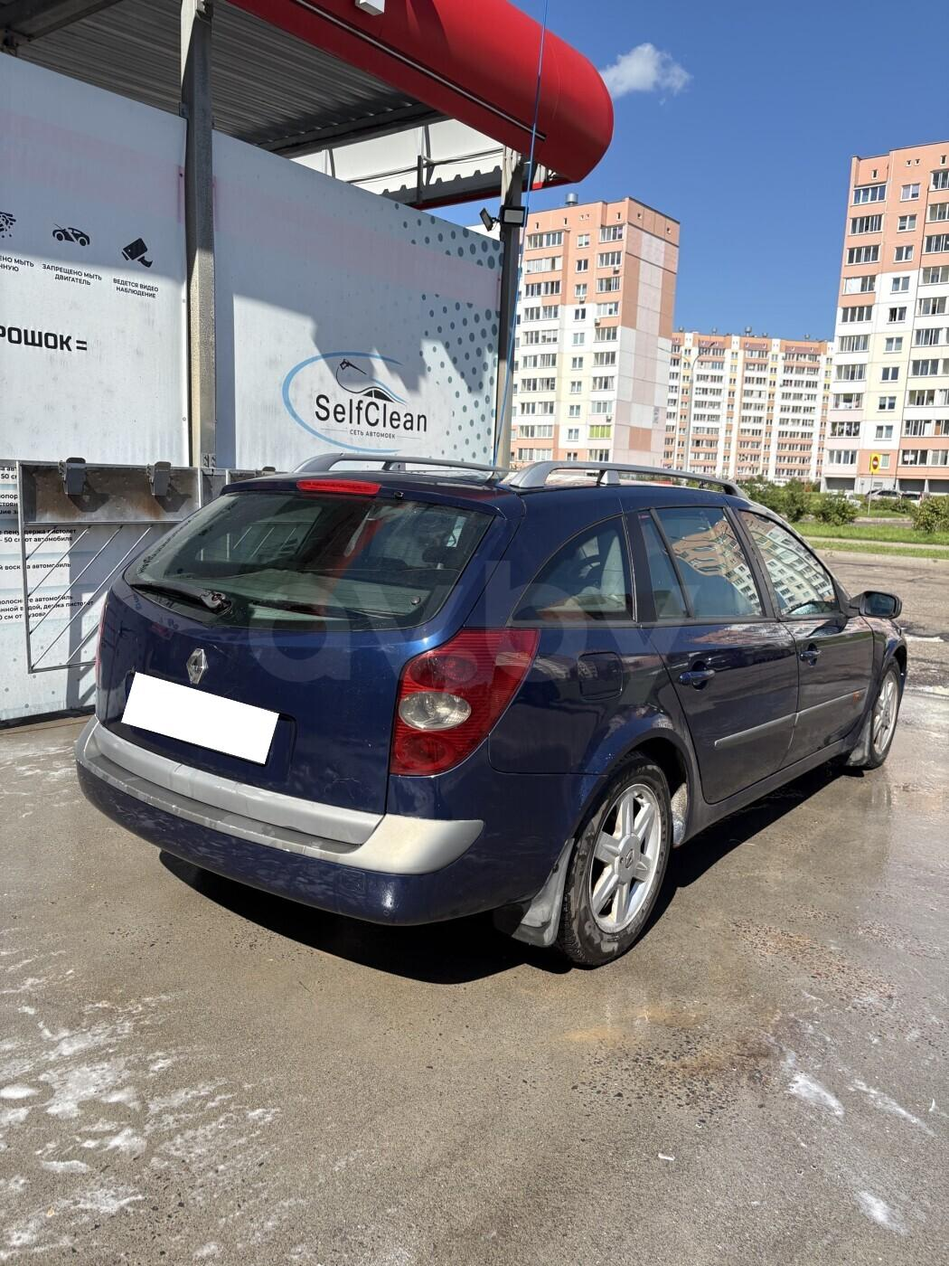Laguna_2001-2005: (76, 455, 905, 963)
